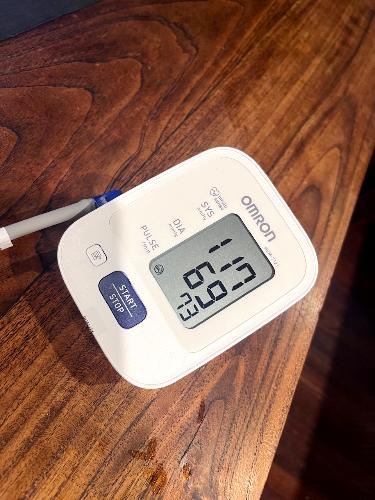bpm: (144, 205, 282, 333)
